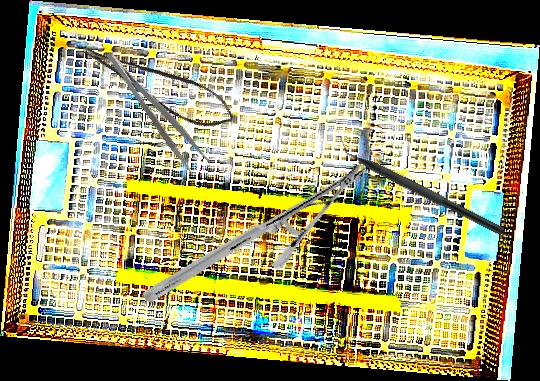Chopper: (331, 132, 511, 237)
Dressing Forceps: (102, 41, 213, 179)
Micro Scissor: (78, 20, 241, 143)
Needle Holder: (140, 102, 369, 364)
